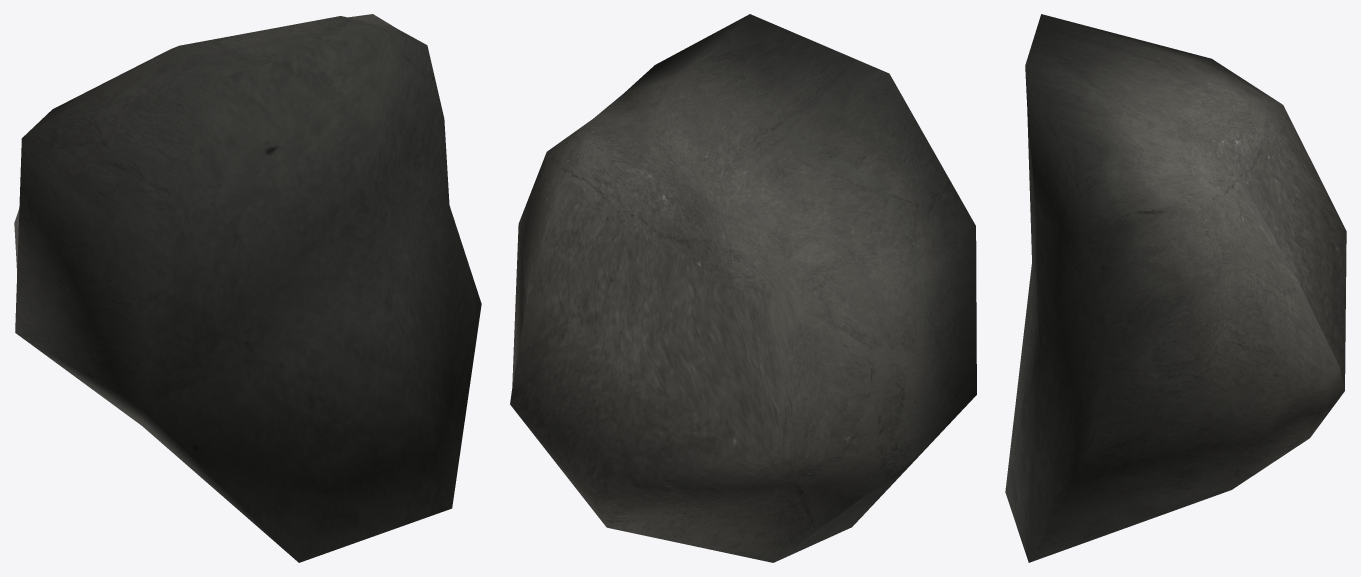
Rendered from ASSETMODEL_PIEDRAC_R.fbx.
3 renders of one model, left to right at view 1: azimuth 30°, elevation 25°; view 2: azimuth 150°, elevation 25°; view 3: azimuth 270°, elevation 25°, orthographic. The views are drawn at different scales.
Parts seen in each view (by area): view 1: ROCA_GRANDE; view 2: ROCA_GRANDE; view 3: ROCA_GRANDE.
Part boxes in pixels (<box>): ROCA_GRANDE: <box>14,14,481,562</box>; ROCA_GRANDE: <box>510,14,976,562</box>; ROCA_GRANDE: <box>1005,14,1346,562</box>.
Size of the model in its own units: 292 by 348 by 230.
Materials: 1 (1 with a texture image).
